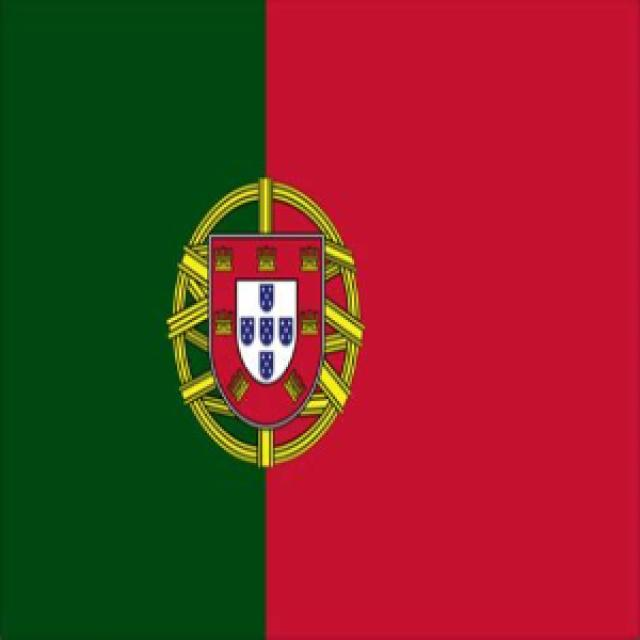portugal: (7, 11, 640, 640)
